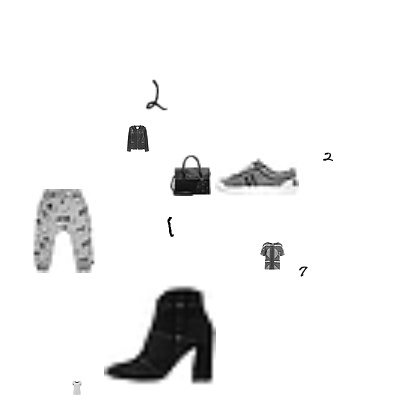1: (156, 212, 184, 240)
2: (133, 77, 175, 119), (321, 150, 335, 164)
7: (296, 263, 310, 277)
Ankle_boot: (104, 279, 216, 391)
Bag: (169, 154, 211, 196)
Coat: (124, 125, 152, 153)
Shirt: (258, 242, 286, 270)
Sneaker: (215, 135, 299, 219)
T-shirt/top: (70, 381, 84, 395)
Trouser: (22, 189, 106, 273)
